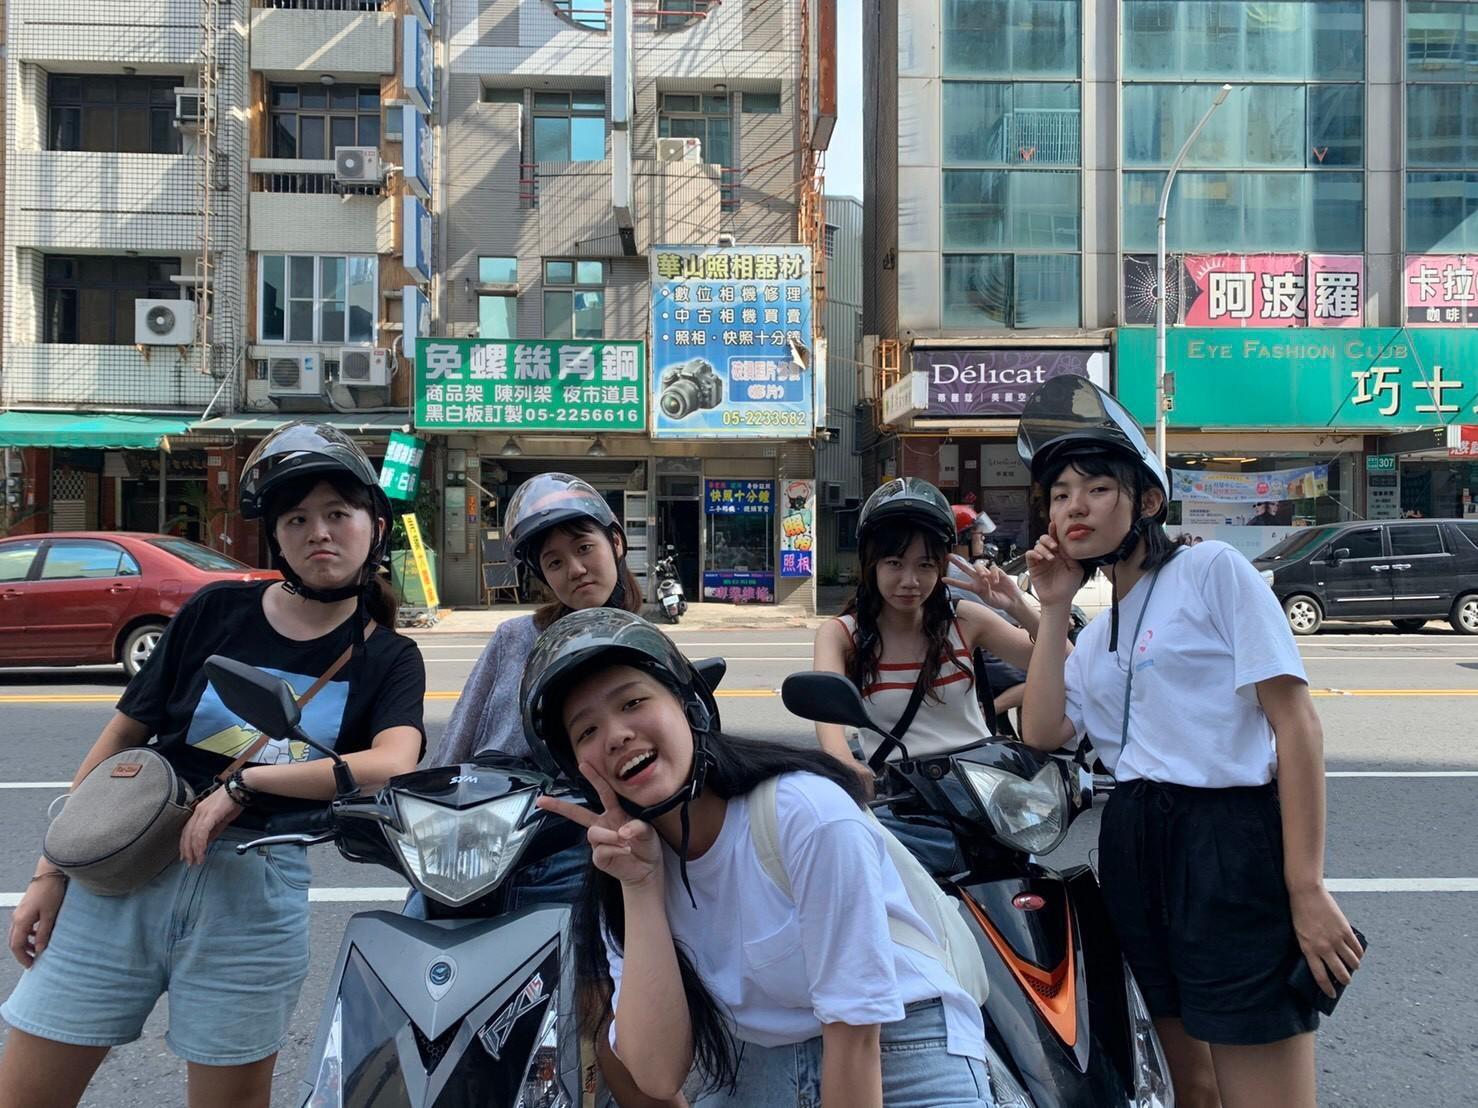people: (1042, 394, 1348, 1108), (573, 632, 994, 1108), (192, 450, 379, 1108), (821, 494, 1021, 894), (496, 482, 644, 927)
